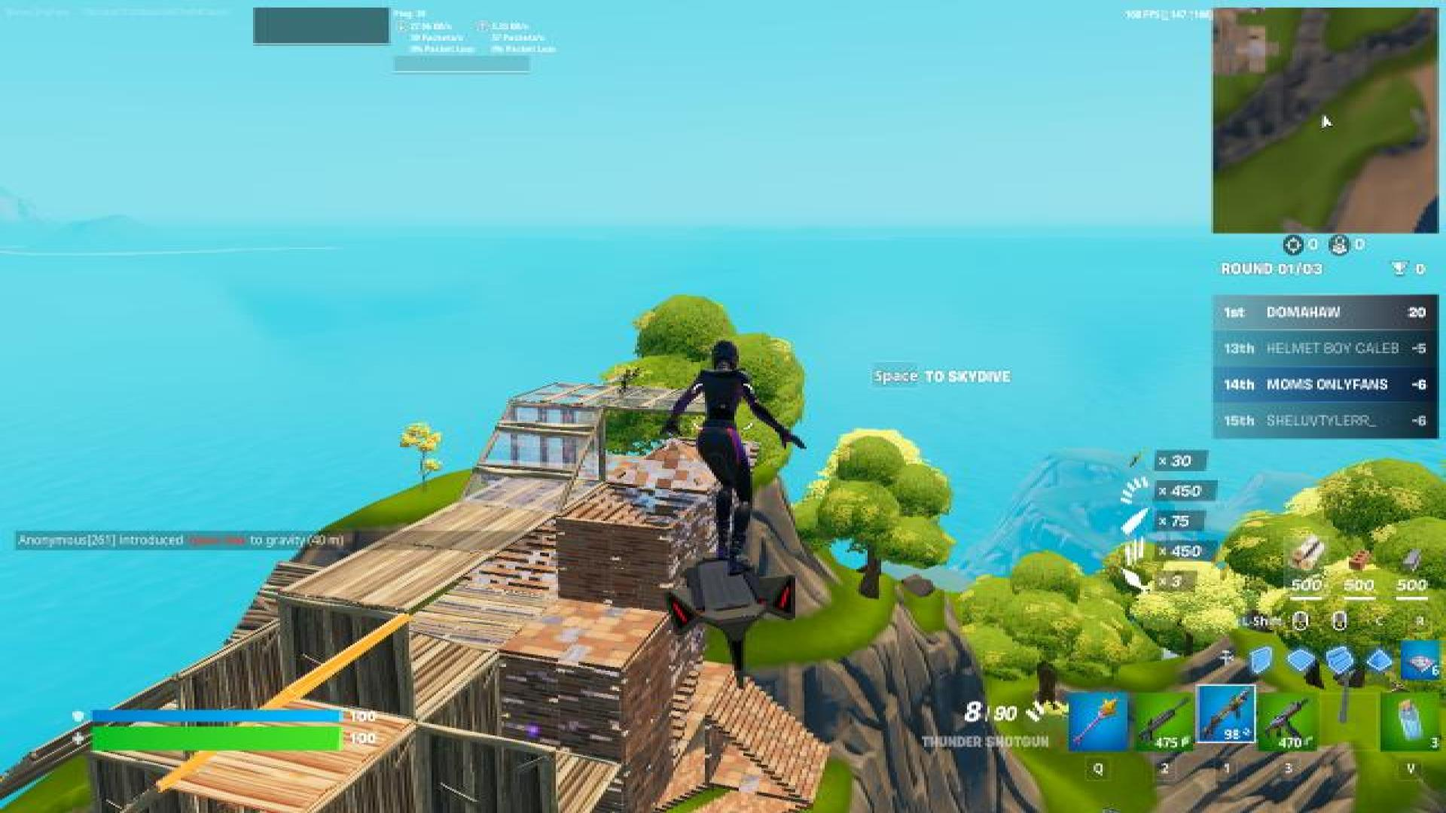player: (613, 363, 638, 395)
